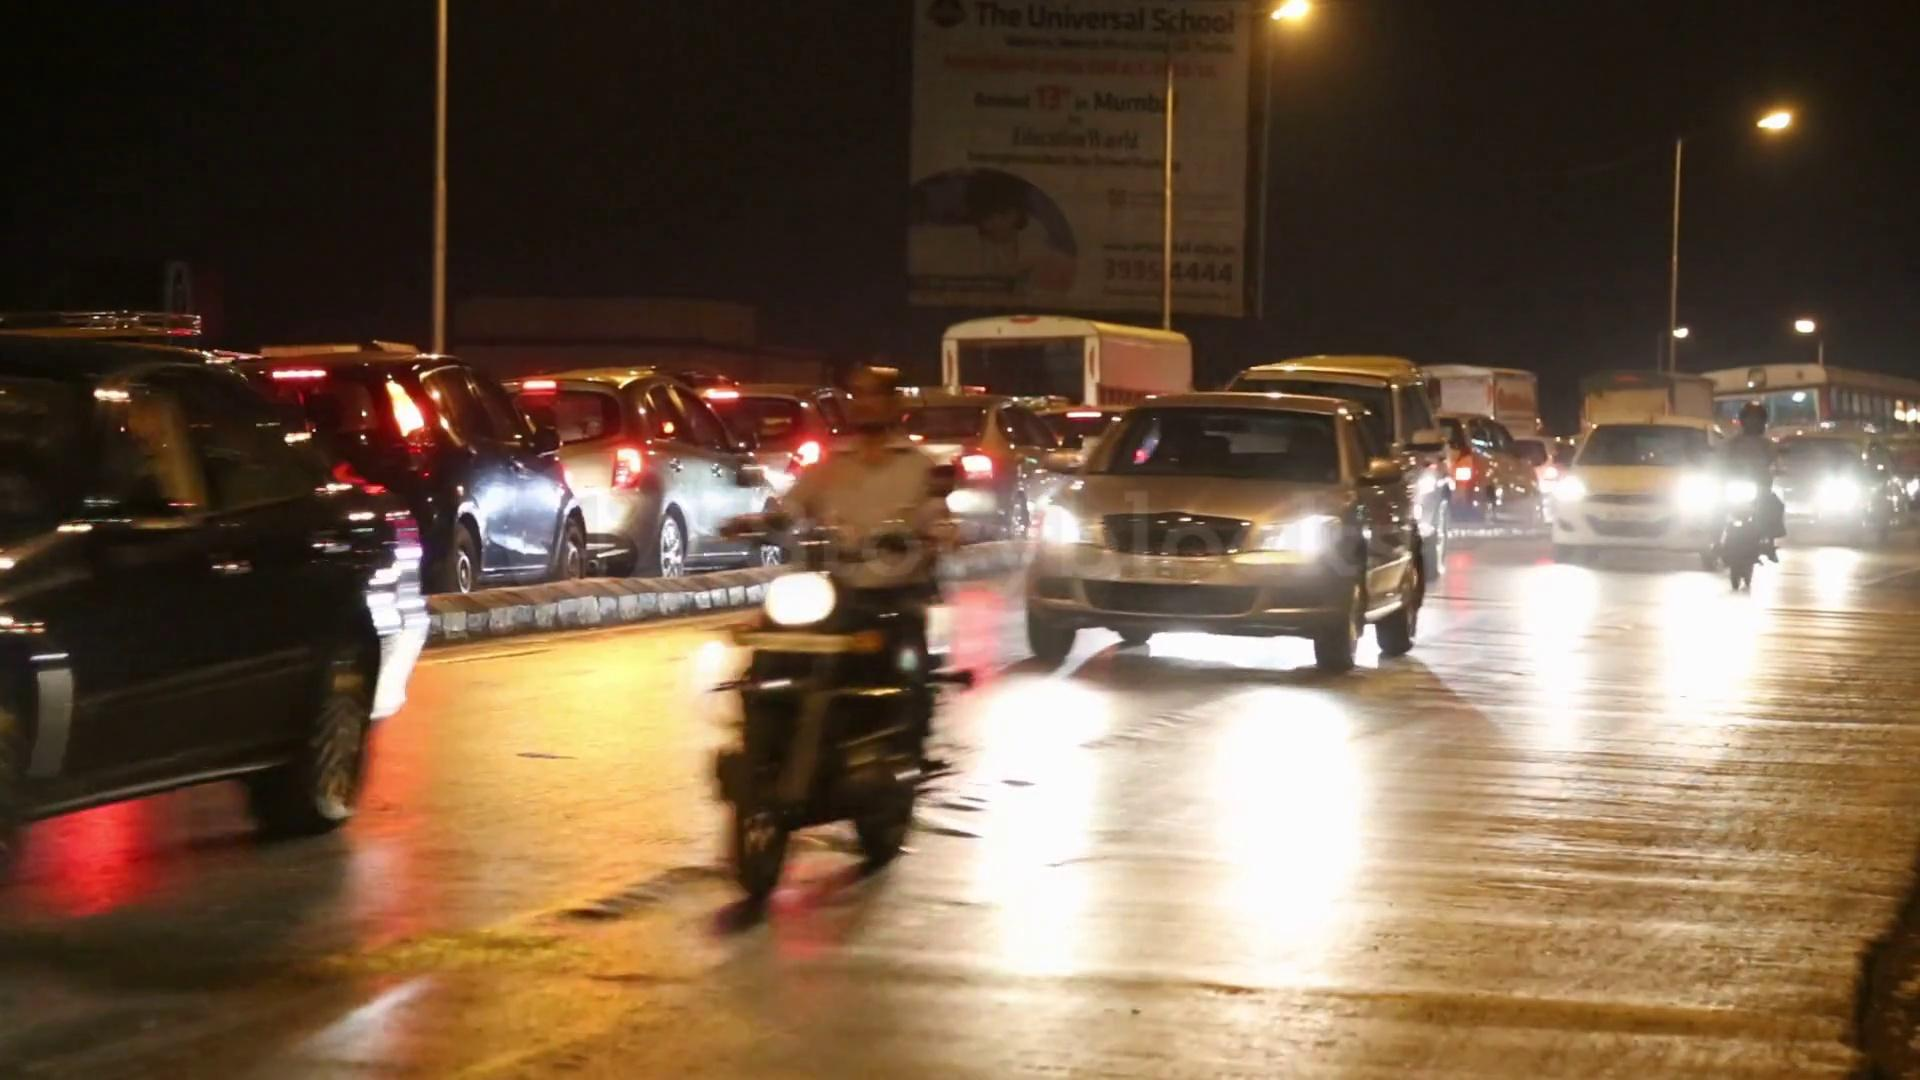rider: (711, 351, 944, 910), (1715, 401, 1784, 591)
without_helmate: (837, 363, 906, 433)
